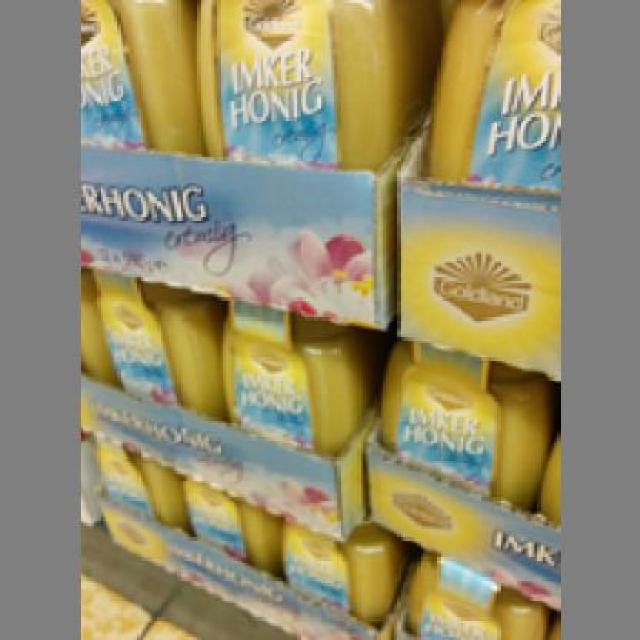Honey: (194, 0, 397, 166), (376, 337, 550, 506), (217, 297, 383, 460), (88, 268, 224, 426), (73, 0, 198, 152), (277, 508, 403, 614), (177, 474, 277, 572), (89, 437, 178, 534)
